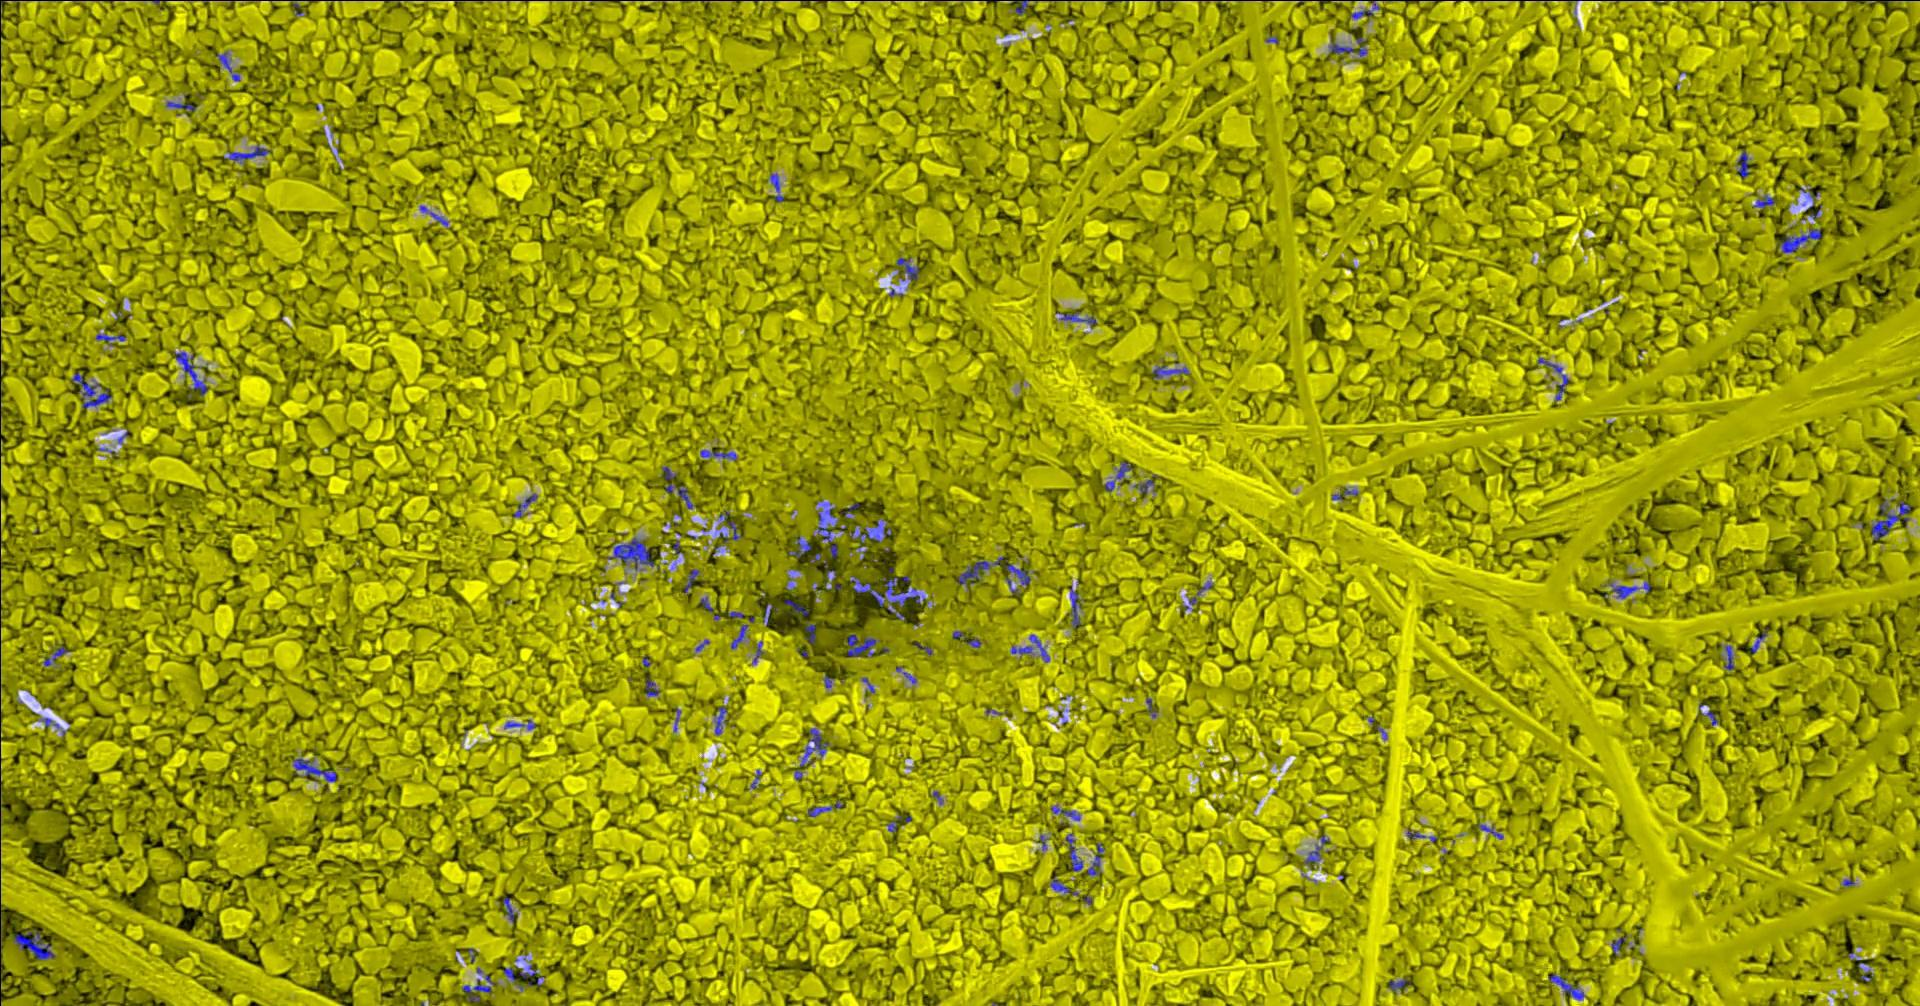ant: (851, 575, 924, 619), (957, 556, 1030, 587), (607, 537, 659, 570), (1870, 498, 1910, 540), (173, 351, 207, 395), (783, 600, 817, 644), (71, 372, 110, 408), (13, 929, 55, 959), (848, 520, 891, 547), (799, 728, 828, 766), (1777, 227, 1821, 251), (815, 512, 838, 558), (293, 758, 337, 781), (1547, 973, 1583, 998), (461, 974, 493, 1002), (223, 144, 269, 161), (1330, 36, 1366, 56), (1150, 359, 1189, 379), (215, 52, 239, 80), (1055, 311, 1096, 328), (846, 634, 875, 655), (1065, 833, 1082, 870), (1350, 0, 1379, 20), (1029, 634, 1049, 662), (513, 493, 536, 517), (1050, 876, 1078, 895), (1087, 843, 1103, 875), (897, 257, 919, 279), (719, 520, 742, 542), (808, 800, 842, 815), (789, 537, 811, 558), (43, 645, 66, 666), (1610, 582, 1638, 598), (1133, 474, 1157, 493), (1698, 702, 1717, 725), (1749, 627, 1766, 652), (1537, 357, 1562, 373), (1477, 823, 1502, 840), (1069, 587, 1079, 627), (1050, 807, 1079, 821), (700, 448, 735, 460), (730, 624, 747, 648), (770, 173, 783, 201), (1406, 829, 1436, 842), (1304, 843, 1321, 866), (95, 333, 124, 345), (662, 466, 676, 492), (714, 706, 726, 734), (677, 485, 692, 508), (683, 569, 698, 592), (1736, 150, 1749, 177), (1556, 373, 1568, 400), (1116, 461, 1131, 483), (503, 719, 535, 729), (502, 895, 514, 921), (762, 605, 778, 624), (1331, 488, 1357, 499), (1388, 978, 1410, 992), (841, 502, 858, 518), (1752, 194, 1775, 207), (1723, 645, 1735, 669), (645, 674, 658, 696), (165, 102, 196, 111), (1011, 645, 1032, 657), (1012, 0, 1027, 14), (1611, 937, 1624, 954), (519, 964, 536, 977)
